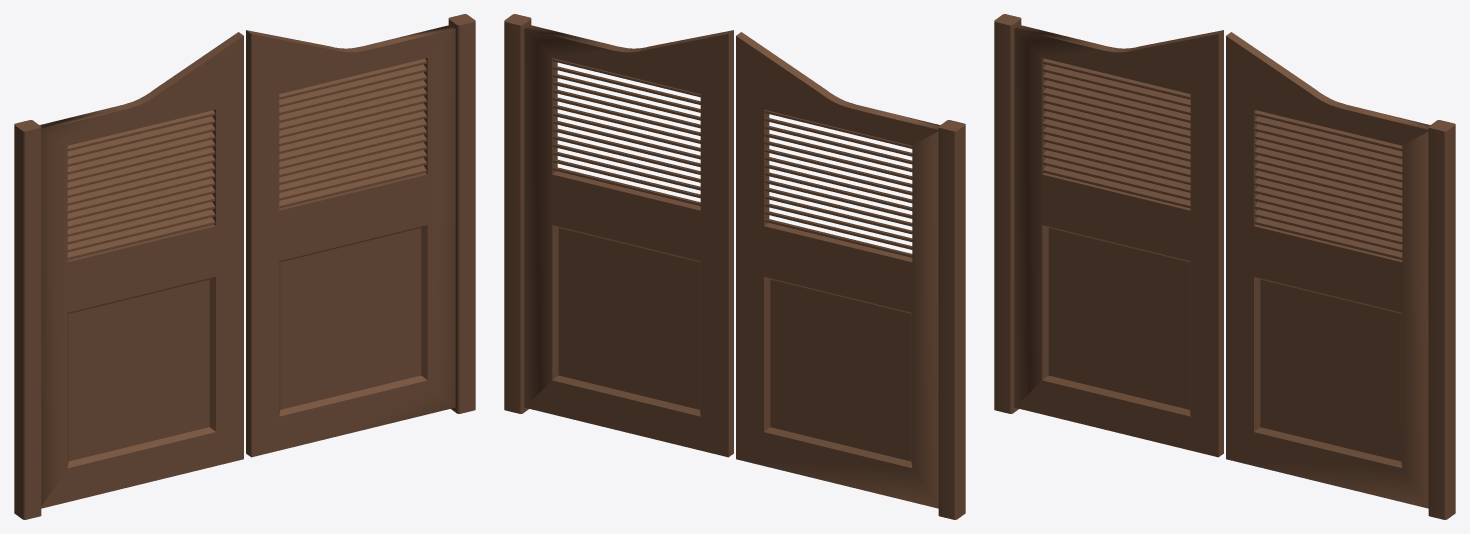
Rendered from doors.fbx.
The picture shows the model from 3 angles, left to right: view 1: azimuth 30°, elevation 25°; view 2: azimuth 150°, elevation 25°; view 3: azimuth 330°, elevation 25°; orthographic projection.
Visible parts, largest first — view 1: Western saloon doors right, Western saloon doors left; view 2: Western saloon doors right, Western saloon doors left; view 3: Western saloon doors left, Western saloon doors right.
Boxes of the visible parts, x1,y1,x2,y2 form: Western saloon doors right: (14, 32, 243, 519); Western saloon doors left: (246, 14, 475, 457); Western saloon doors right: (736, 32, 965, 519); Western saloon doors left: (504, 14, 733, 457); Western saloon doors left: (1226, 32, 1455, 519); Western saloon doors right: (994, 14, 1223, 457).
Size of the model in its own units: 1220 by 1103 by 50.
